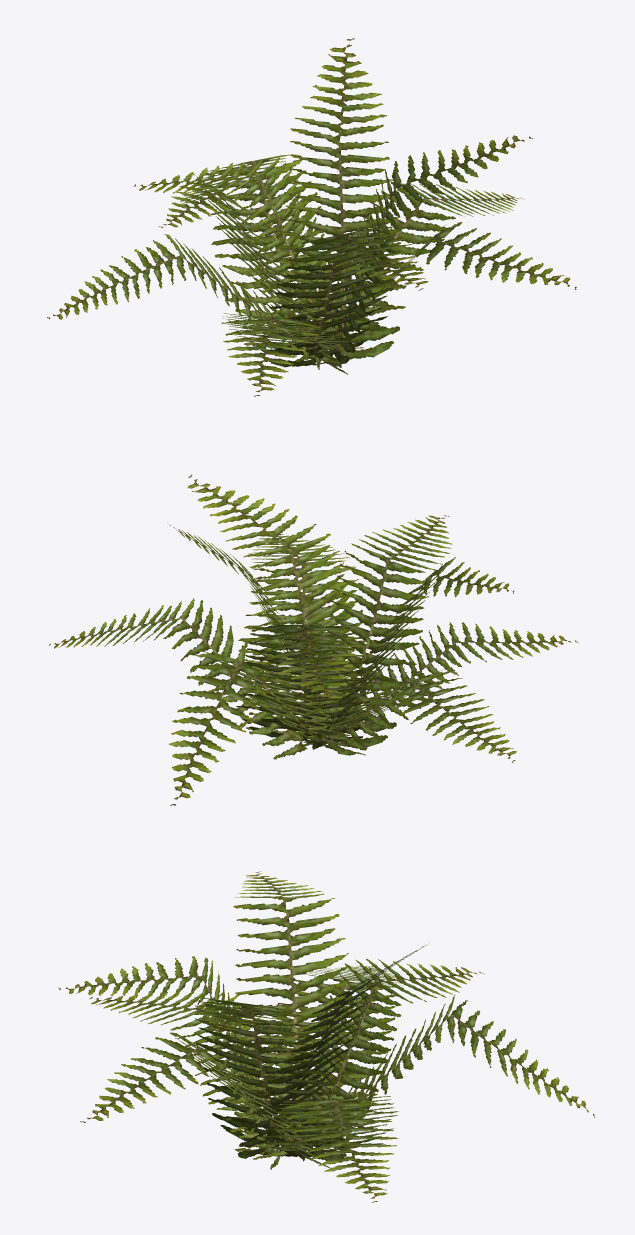
Rendered from FERN01B.glb.
The picture shows the model from 3 angles, top to bottom: view 1: azimuth 30°, elevation 25°; view 2: azimuth 150°, elevation 25°; view 3: azimuth 270°, elevation 25°; orthographic projection. The views are drawn at different scales.
Parts seen in each view (by area): view 1: _FERN01B; view 2: _FERN01B; view 3: _FERN01B.
Boxes of the visible parts, box(x1,y1,x2,y2) form: _FERN01B: box(47, 38, 576, 396); _FERN01B: box(49, 474, 578, 805); _FERN01B: box(58, 871, 595, 1202).
Size of the model in its own units: 4.88 by 2.34 by 4.67.
Materials: 1 (1 with a texture image).
